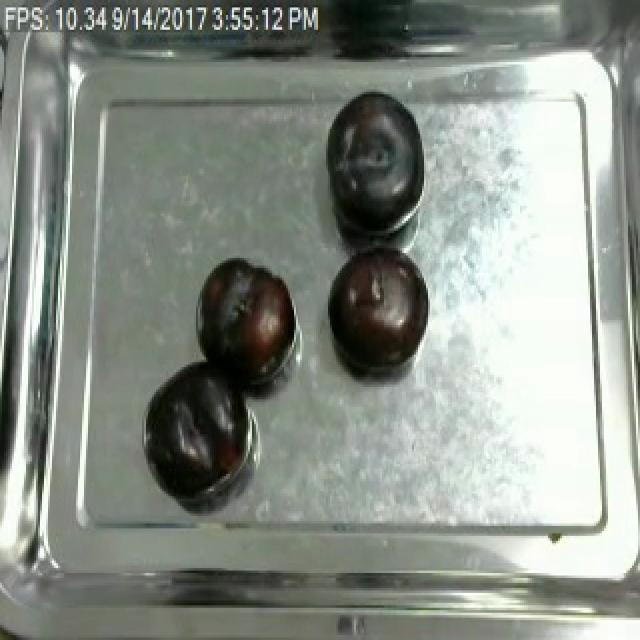Fruit: (318, 89, 426, 243), (140, 354, 248, 498), (322, 241, 430, 377), (192, 253, 296, 389)
